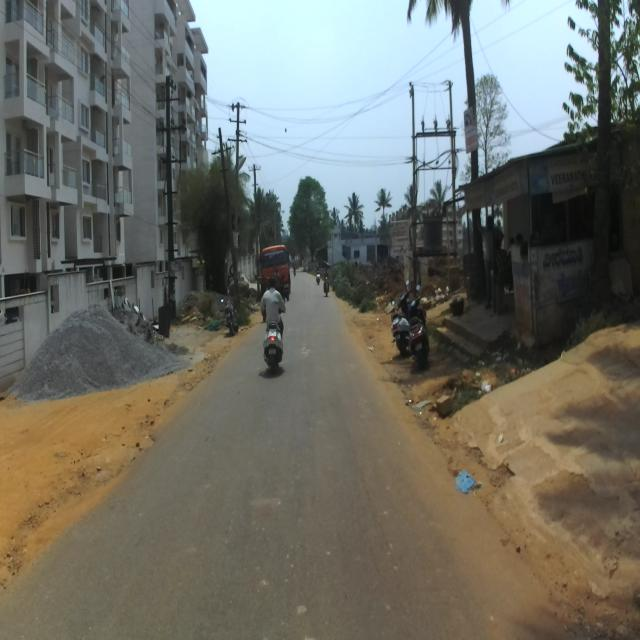electric pole ahead at: (154, 66, 194, 307)
motorcycle ahead at: (404, 287, 429, 359), (260, 322, 289, 383)
